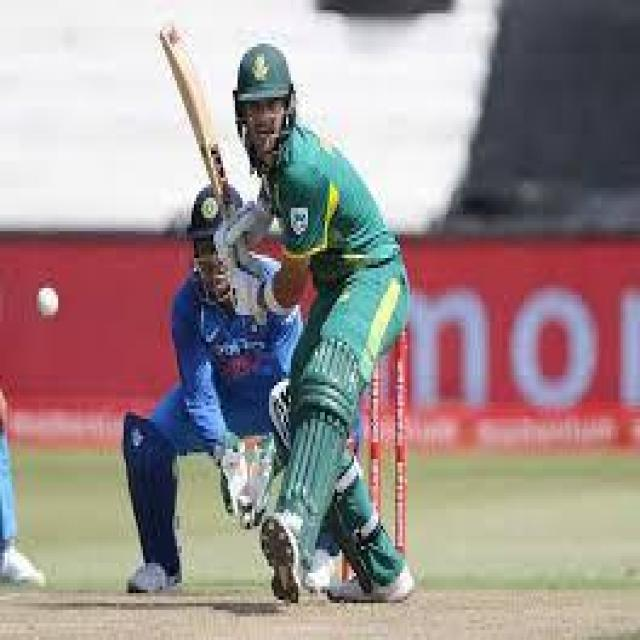bat: (152, 22, 240, 230)
toe: (153, 22, 186, 61)
